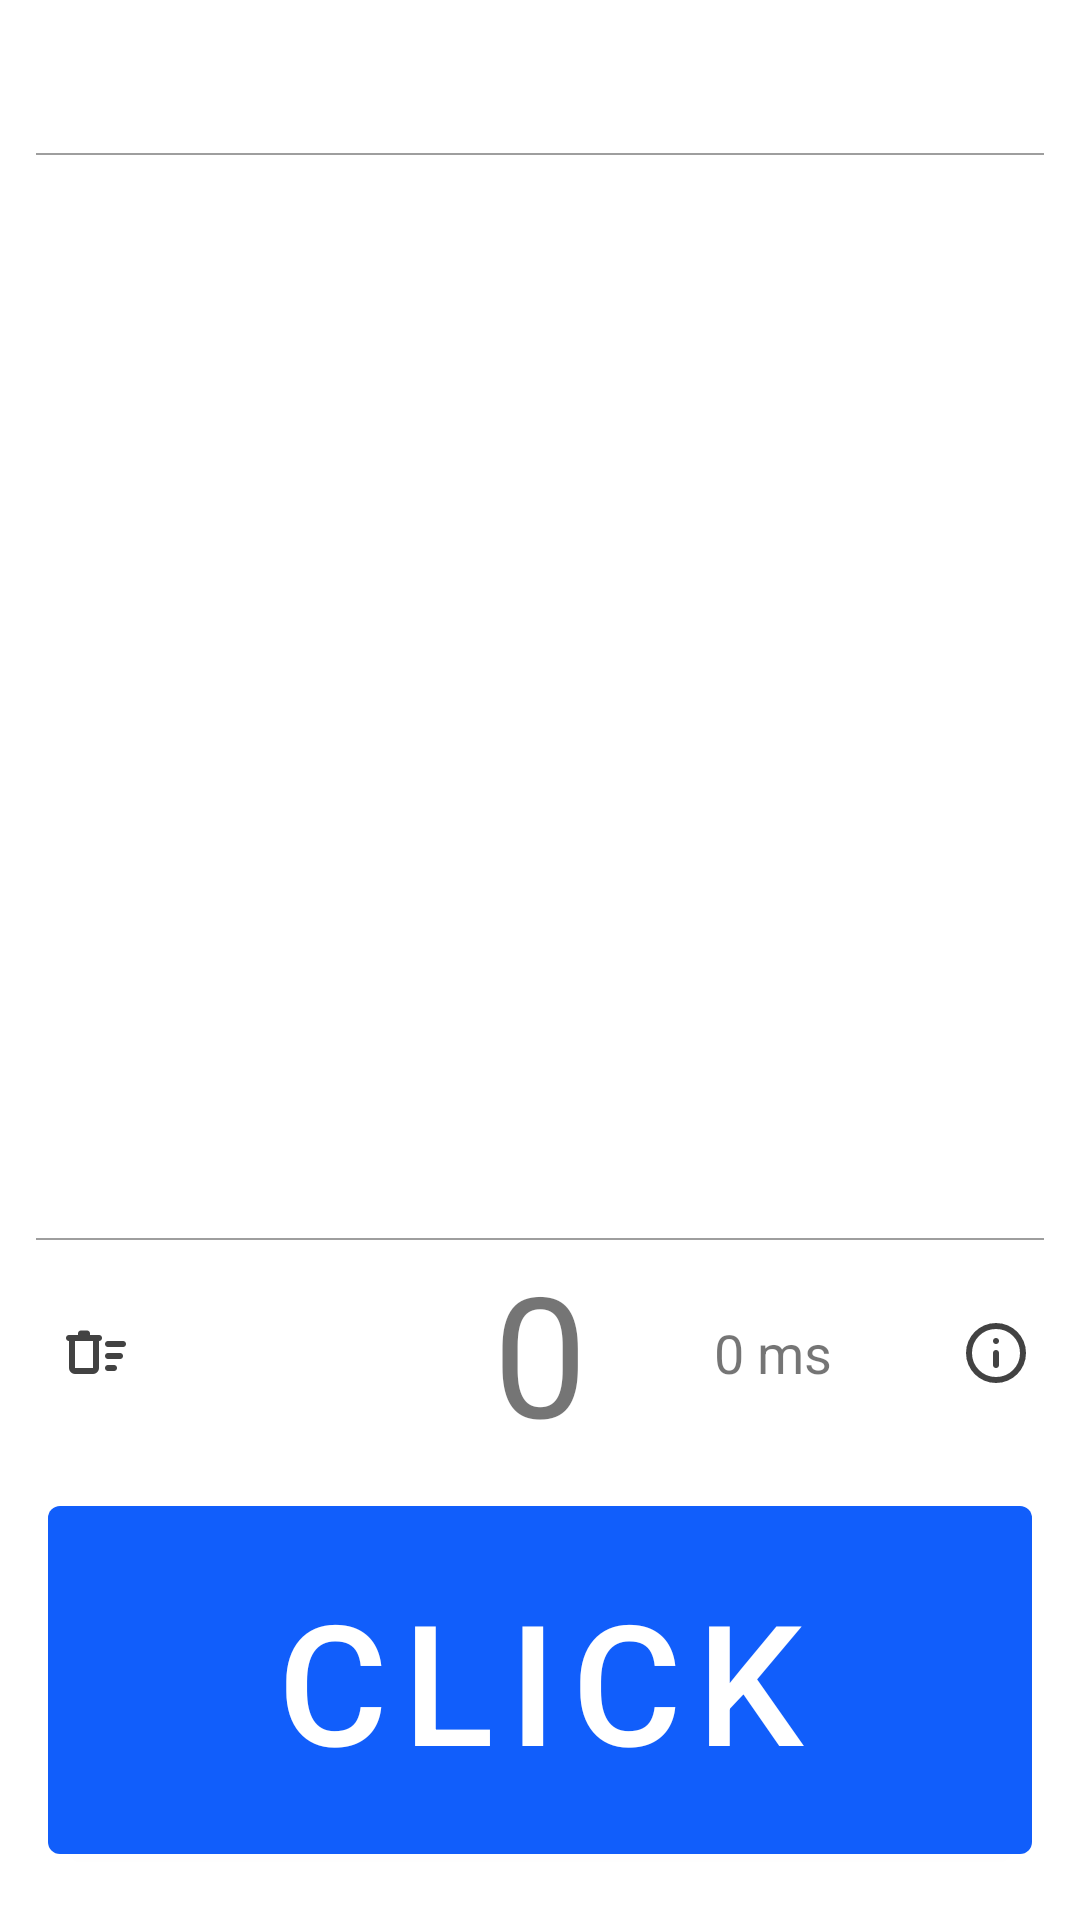

Named icons in this screenshot (1080px x 1920px) and their bounding boxes, (x1, y1, x2, y2):
delete sweep: (66, 1330, 126, 1374)
info: (966, 1323, 1026, 1383)
